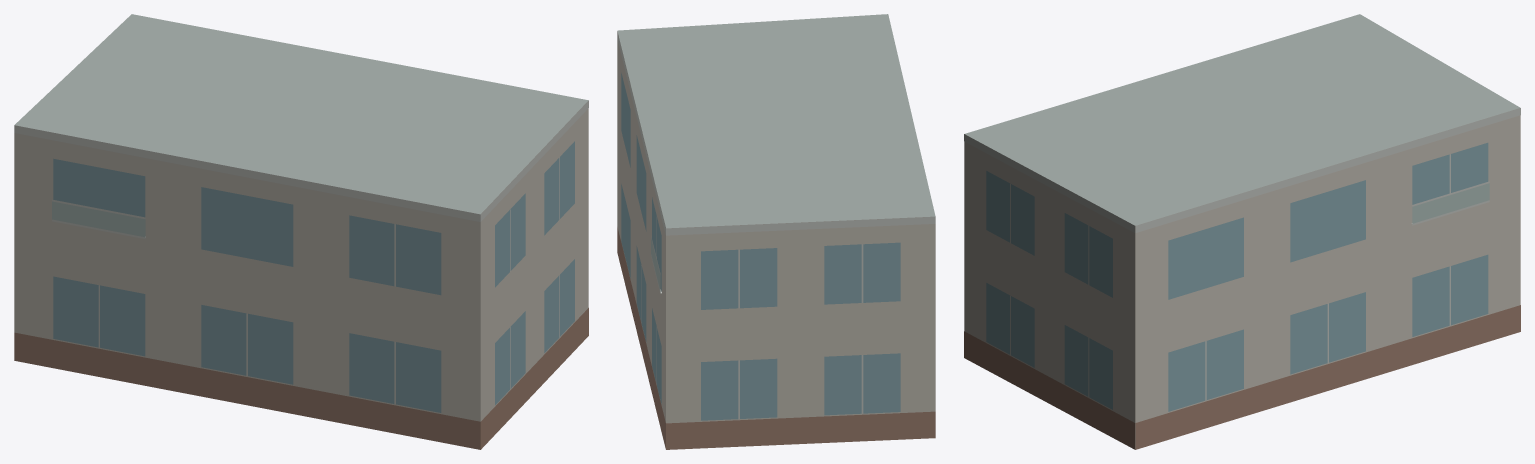
File: survey-upis-32921107.glb
3 views of the same model, side by side, from view 1: azimuth 30°, elevation 25°; view 2: azimuth 150°, elevation 25°; view 3: azimuth 270°, elevation 25° (orthographic). The views are drawn at different scales.
Parts seen in each view (by area): view 1: survey-upis-32921107.tmp; view 2: survey-upis-32921107.tmp; view 3: survey-upis-32921107.tmp.
Boxes of the visible parts, <box> form: survey-upis-32921107.tmp: <box>14,14,588,449</box>; survey-upis-32921107.tmp: <box>617,14,935,449</box>; survey-upis-32921107.tmp: <box>964,14,1520,449</box>.
Bounding box in the file's own units: 15.02 × 7.4 × 16.67.
